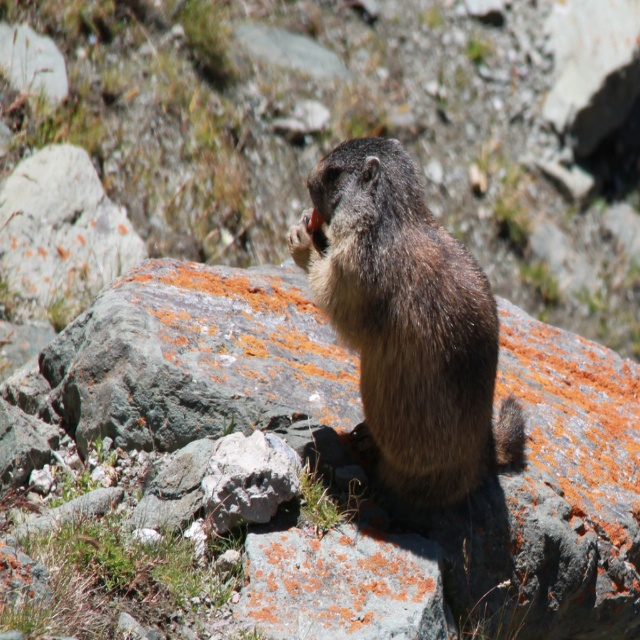Monkey: (290, 126, 542, 585)
